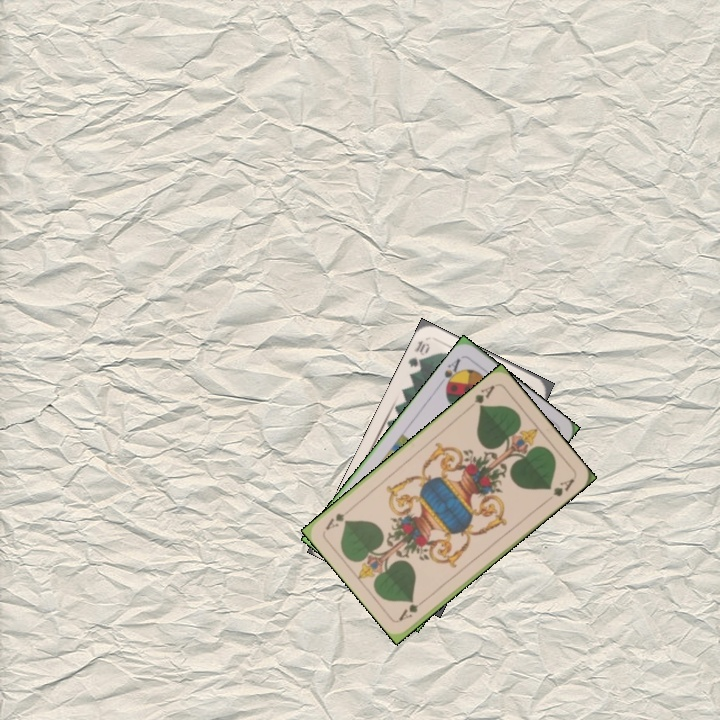G10: (404, 336, 433, 370)
GA: (395, 593, 430, 623), (470, 381, 498, 411)
SA: (440, 354, 465, 392)
